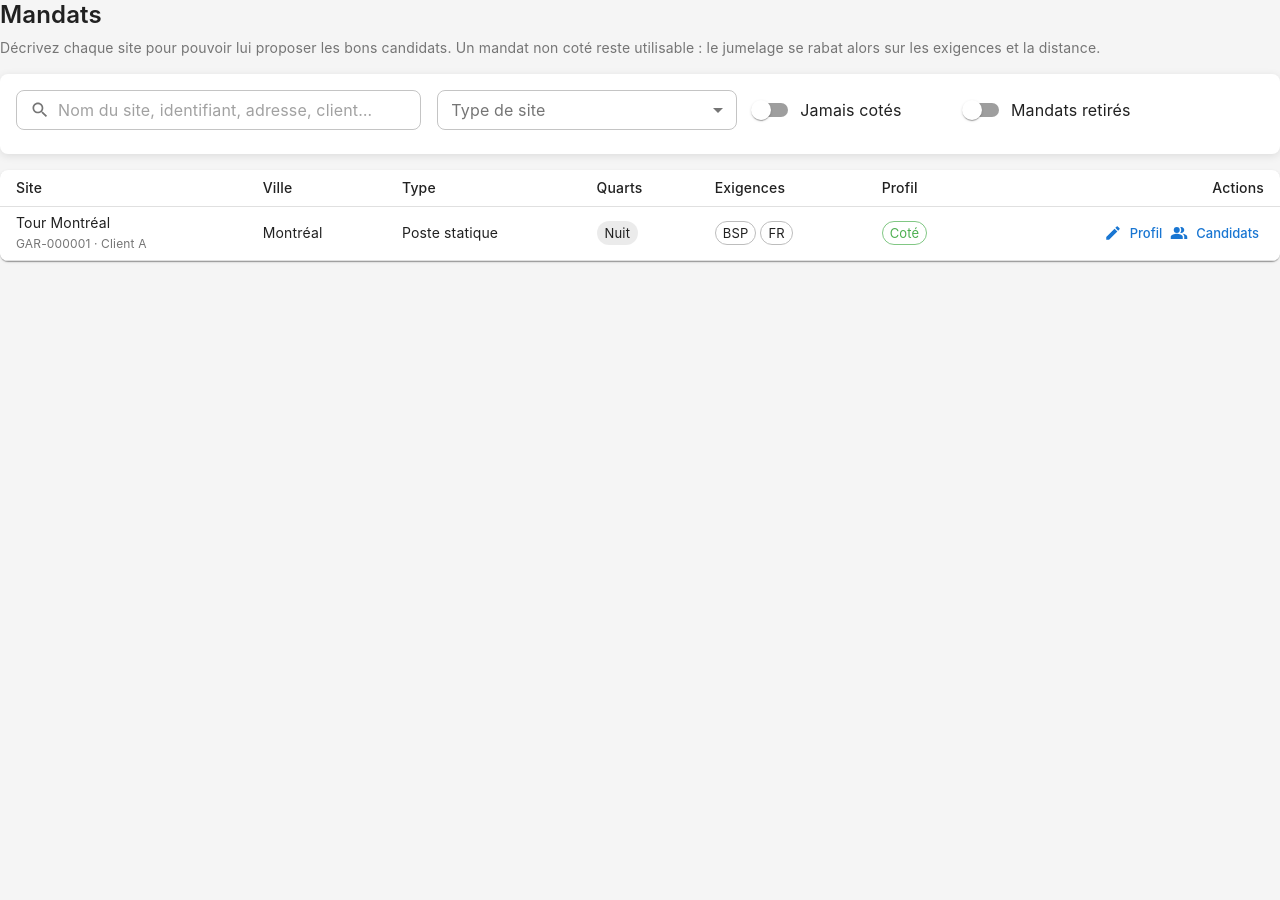
MandatesPage › dialogue des candidats › affiche le classement et explique les exclusions
Check: the text "Tour Montréal" is shown, box [16, 214, 110, 231]
Click the button "Candidats": (1216,234) [1167, 218, 1264, 249]
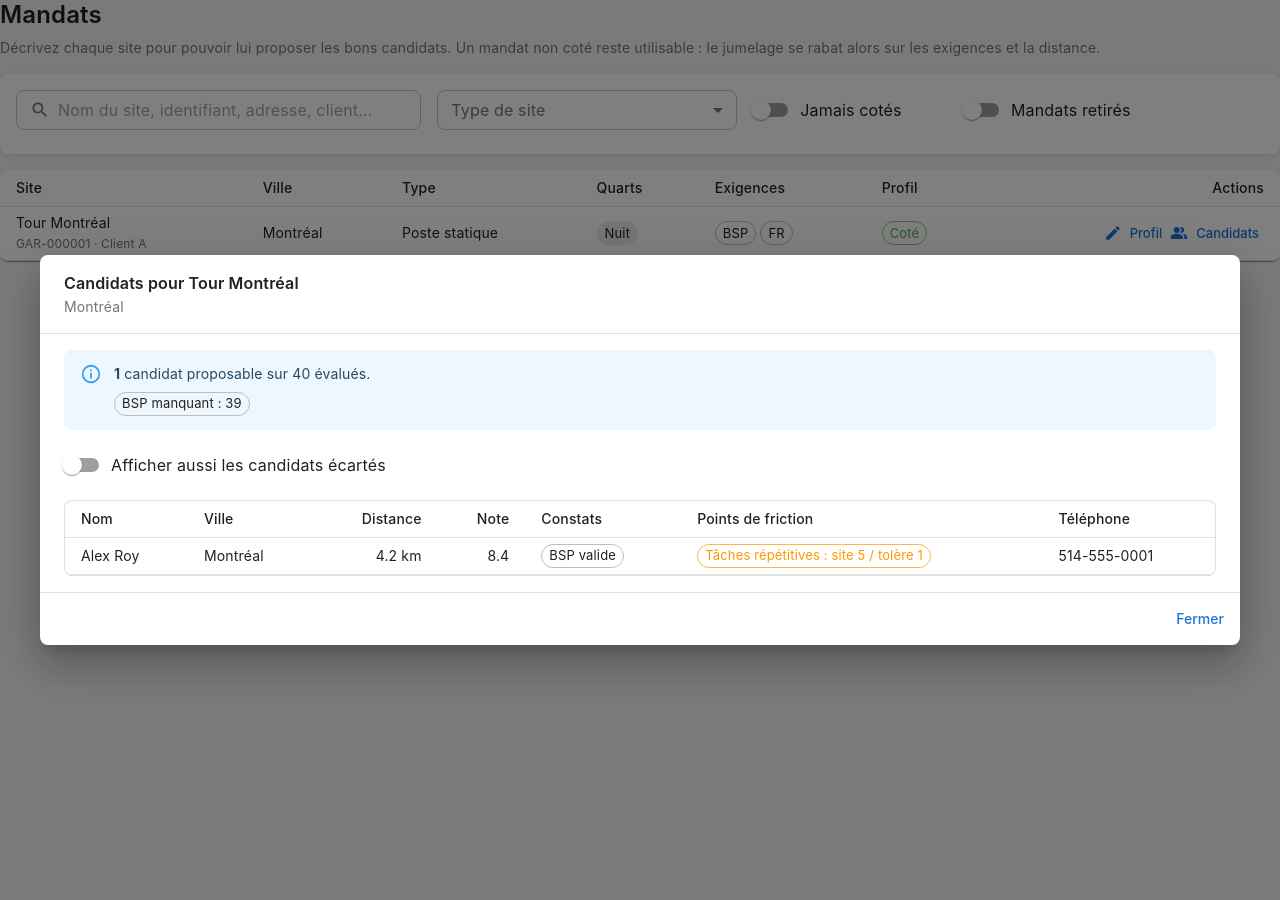
Check: the text "Alex Roy" is shown, box [65, 537, 188, 574]
Check: the text "4.2 km" is shown, box [313, 537, 438, 574]
Check: the text "BSP manquant : 39" is shown, box [115, 394, 249, 413]
